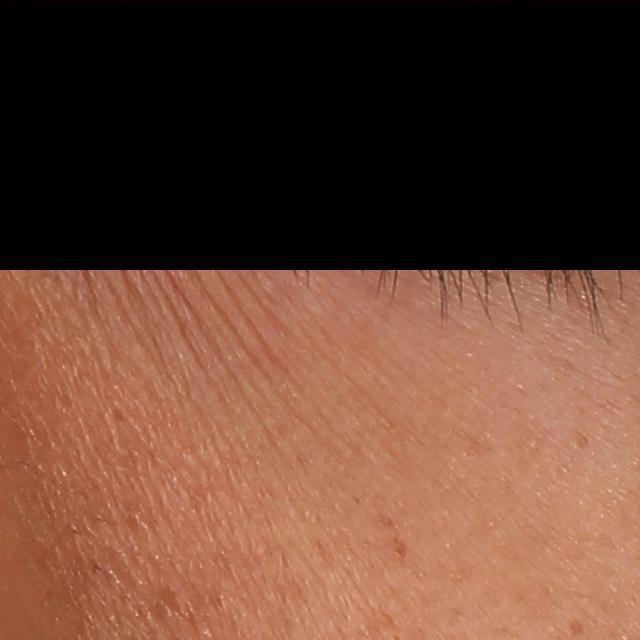melasma: (373, 506, 412, 562), (571, 428, 592, 451)
